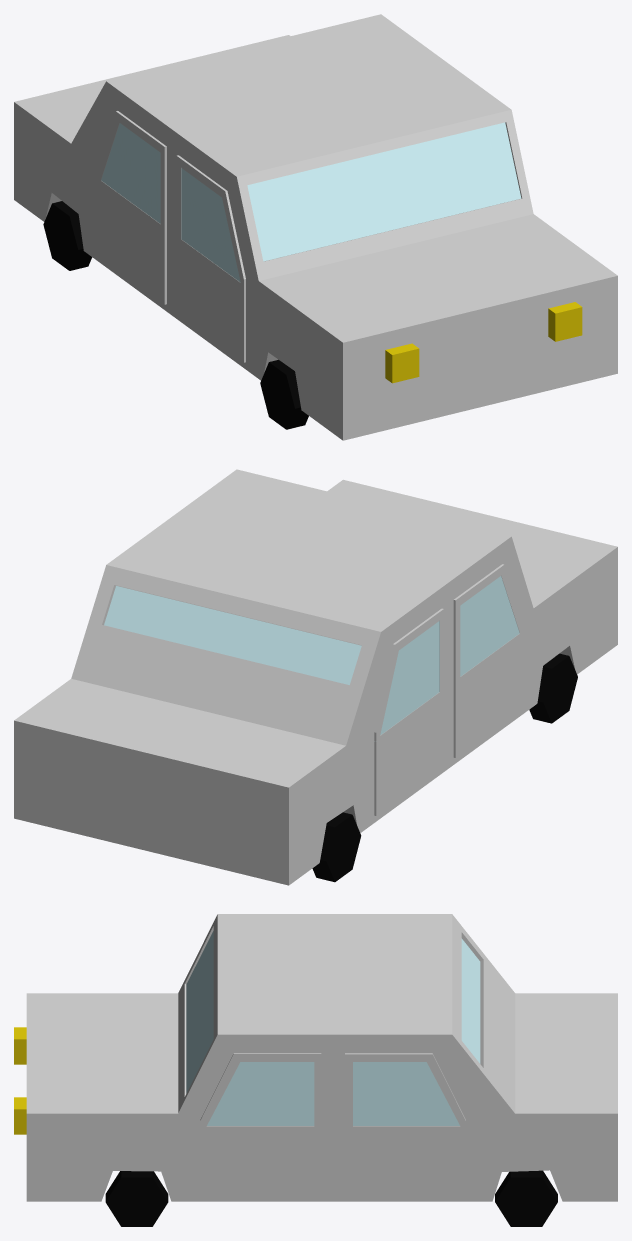
The model's file is Coche  Blanco.fbx.
3 renders of one model, top to bottom at view 1: azimuth 30°, elevation 25°; view 2: azimuth 150°, elevation 25°; view 3: azimuth 270°, elevation 25°, orthographic. The views are drawn at different scales.
Parts seen in each view (by area): view 1: Cube, Cube.010, Cube.004, Cube.005, Cube.009, Cube.008, Cube.002, Cylinder.002, Cylinder.003; view 2: Cube, Cube.011, Cube.005, Cube.004, Cube.009, Cube.008, Cylinder.003, Cylinder.002; view 3: Cube, Cube.001, Cube.003, Cube.006, Cube.007, Cube.010, Cylinder, Cylinder.001, Cube.011, Cube.002.
Boxes of the visible parts, x1,y1,x2,y2 form: Cube: [14, 14, 617, 440]; Cube.010: [247, 122, 521, 261]; Cube.004: [176, 155, 245, 362]; Cube.005: [97, 111, 166, 304]; Cube.009: [101, 123, 160, 223]; Cube.008: [181, 168, 240, 282]; Cube.002: [385, 302, 582, 383]; Cylinder.002: [260, 359, 308, 429]; Cylinder.003: [43, 201, 92, 270]; Cube: [14, 469, 617, 885]; Cube.011: [104, 586, 361, 684]; Cube.005: [374, 608, 443, 815]; Cube.004: [453, 564, 522, 757]; Cube.009: [374, 621, 439, 741]; Cube.008: [460, 576, 519, 676]; Cylinder.003: [312, 812, 361, 882]; Cylinder.002: [529, 653, 577, 723]; Cube: [26, 914, 617, 1201]; Cube.001: [345, 1053, 465, 1196]; Cube.003: [200, 1053, 321, 1195]; Cube.006: [207, 1062, 314, 1125]; Cube.007: [353, 1062, 459, 1125]; Cube.010: [186, 931, 213, 1093]; Cylinder: [105, 1171, 168, 1226]; Cylinder.001: [495, 1170, 557, 1226]; Cube.011: [461, 938, 480, 1063]; Cube.002: [14, 1027, 26, 1134].
Size of the model in its own units: 173 by 125 by 358.
